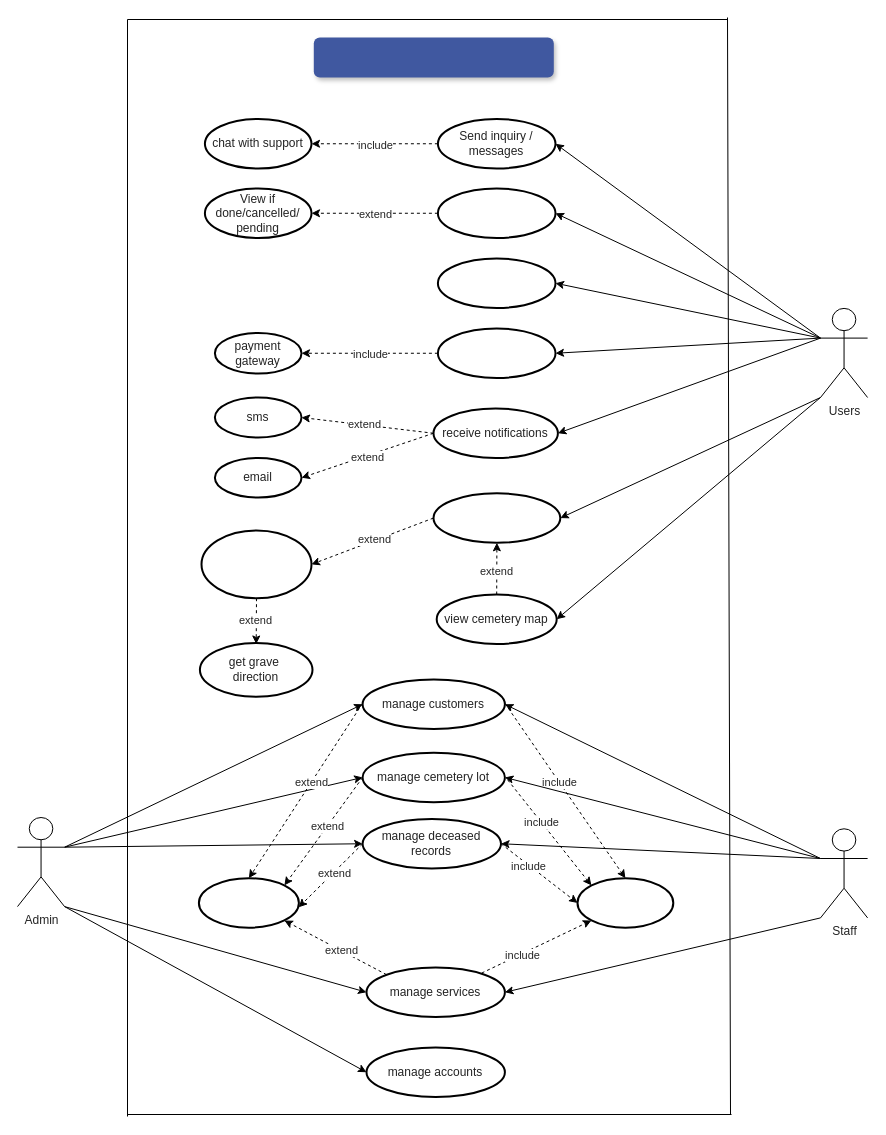
The diagram is 886 pixels wide and 1135 high, and some of its shapes have lost their labels. Each missing label, with the centre of its shape:
book grave services: pixel 496 352
CemeterEase UseCase: pixel 434 58
edit account profile: pixel 496 282
generate logs: pixel 625 902
print table: pixel 248 902
search deceased person: pixel 496 517
track service status: pixel 496 212
view grave status & i nformation: pixel 256 564
